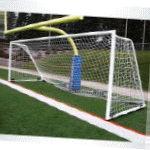goals: (7, 29, 146, 122)
